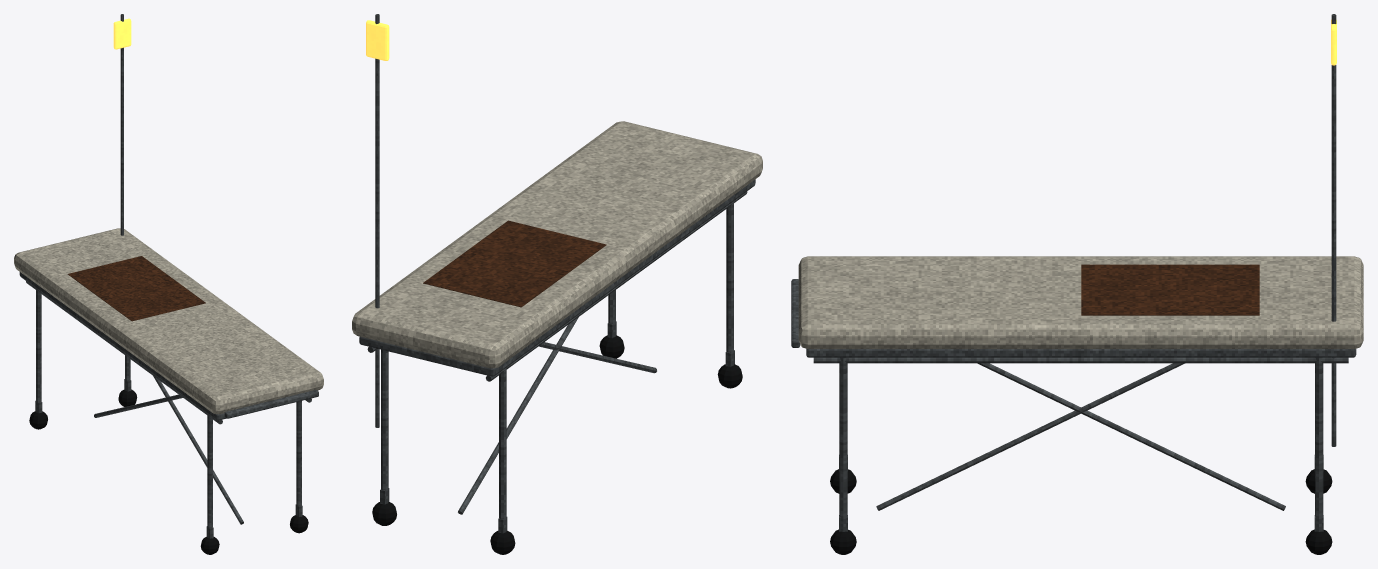
Rendered from gurney.glb.
The picture shows the model from 3 angles, left to right: view 1: azimuth 30°, elevation 25°; view 2: azimuth 150°, elevation 25°; view 3: azimuth 270°, elevation 25°; orthographic projection. The views are drawn at different scales.
Parts seen in each view (by area): view 1: gurney; view 2: gurney; view 3: gurney.
Part boxes in pixels (x1,y1,x2,y2): gurney: (14, 14, 323, 554); gurney: (352, 14, 762, 554); gurney: (791, 14, 1363, 554).
Bounding box in the file's own units: 0.6 × 2 × 1.92.
Materials: 5 (5 with a texture image).
